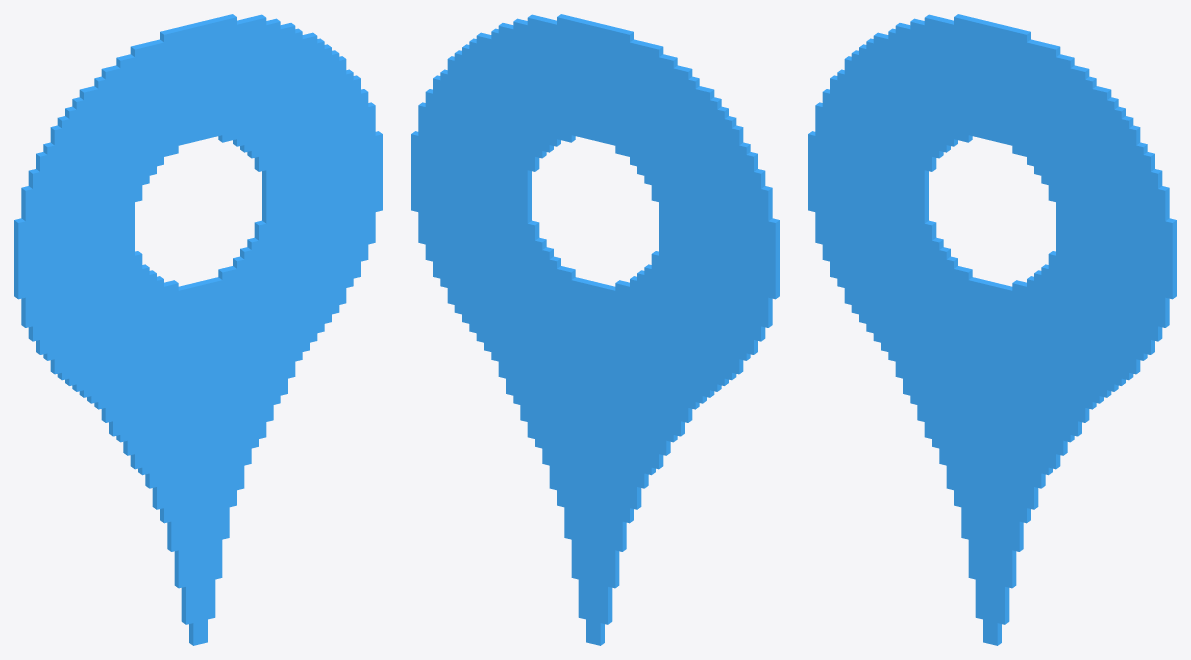
Rendered from 引导图标.gltf.
The picture shows the model from 3 angles, left to right: view 1: azimuth 30°, elevation 25°; view 2: azimuth 150°, elevation 25°; view 3: azimuth 330°, elevation 25°; orthographic projection.
Parts seen in each view (by area): view 1: Group; view 2: Group; view 3: Group.
Part boxes in pixels (bbox=[...]): Group: bbox=[14, 14, 382, 645]; Group: bbox=[411, 14, 779, 645]; Group: bbox=[808, 14, 1176, 645].
Size of the model in its own units: 50 by 81 by 1.
Materials: 1 (1 with a texture image).
